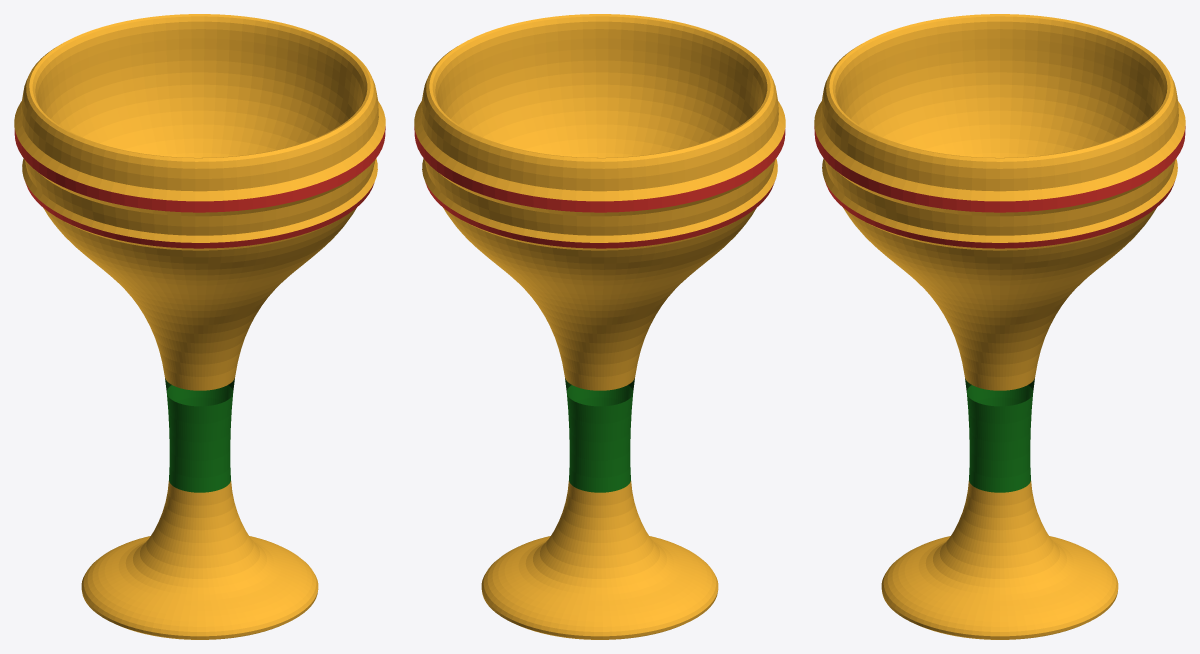
File: Goblet.fbx
3 renders of one model, left to right at view 1: azimuth 30°, elevation 25°; view 2: azimuth 150°, elevation 25°; view 3: azimuth 270°, elevation 25°, orthographic.
Parts seen in each view (by area): view 1: Goblet; view 2: Goblet; view 3: Goblet.
Part boxes in pixels (box(x1,y1,x2,y2)): Goblet: box(14, 14, 385, 639); Goblet: box(414, 14, 785, 639); Goblet: box(814, 14, 1185, 639).
Size of the model in its own units: 648 by 977 by 648.
